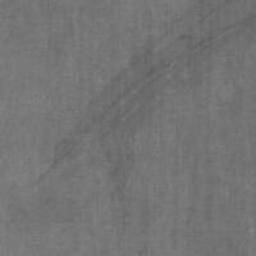Water spot: (23, 0, 256, 234)
